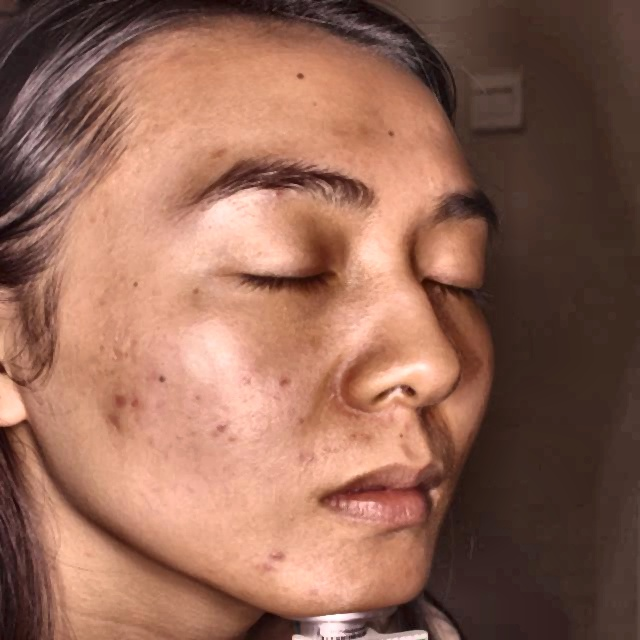comedone: (99, 392, 132, 433), (257, 541, 296, 575)
